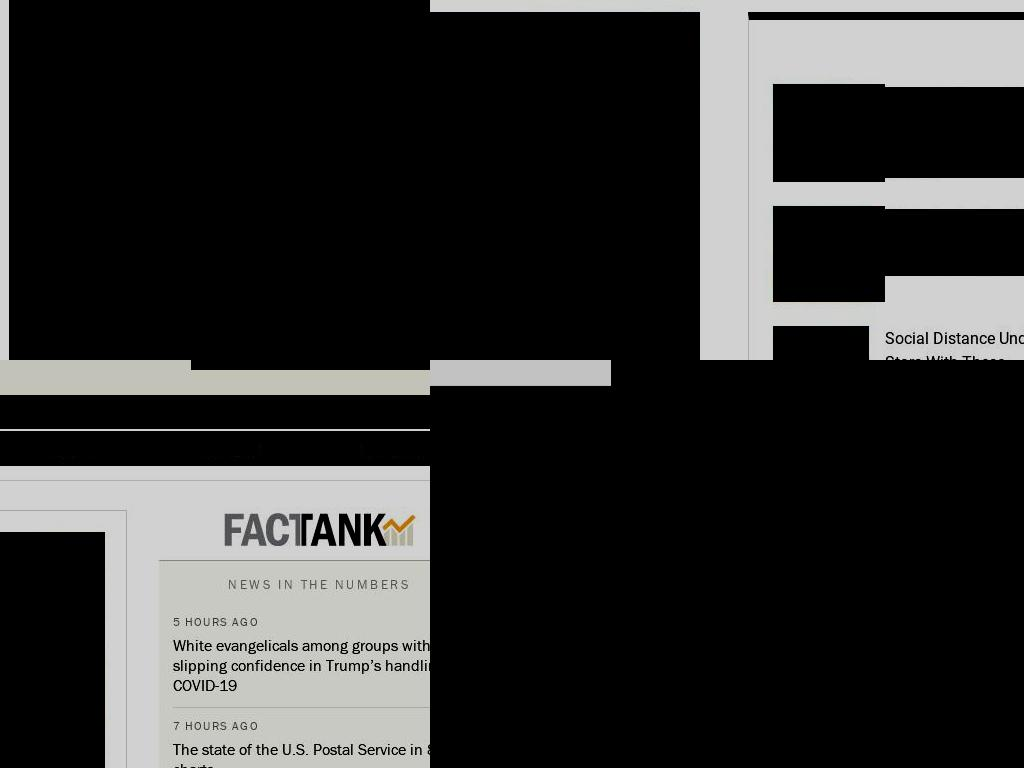button: (9, 47, 430, 360), (430, 12, 700, 360), (0, 532, 105, 768), (172, 634, 430, 695), (773, 84, 885, 182), (773, 206, 885, 302), (158, 510, 430, 546), (172, 738, 430, 768), (0, 395, 136, 429), (773, 326, 885, 360), (220, 395, 320, 429), (135, 395, 221, 429), (319, 395, 402, 429), (363, 441, 430, 456), (401, 395, 430, 429), (197, 441, 258, 456), (37, 441, 93, 456)
field: (191, 360, 430, 370)
heading: (430, 666, 574, 768)
image: (430, 386, 1024, 768), (611, 360, 1024, 768), (9, 47, 430, 360), (430, 12, 700, 360), (0, 532, 105, 768), (773, 84, 869, 180), (773, 206, 869, 302), (219, 510, 420, 546), (773, 326, 869, 360)
text: (172, 634, 430, 695), (885, 87, 1024, 178), (885, 209, 1024, 276), (172, 738, 430, 768), (172, 574, 430, 595), (172, 615, 430, 635), (172, 719, 430, 739), (885, 329, 1024, 360)
